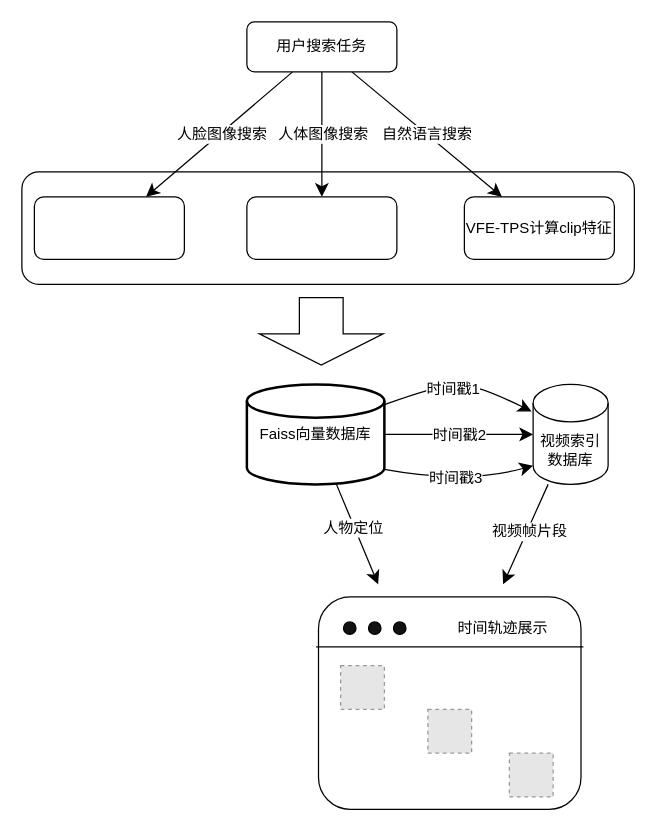
Image size: 656x831. Some labels were removed from this diagram. Grey dashed boxes stand in for pictures. The centre of each missing label's shape, as x and y in pixels:
"Arcface计算人脸特征" belongs at (x=108, y=227).
"reid计算人体特征" belongs at (x=321, y=227).
